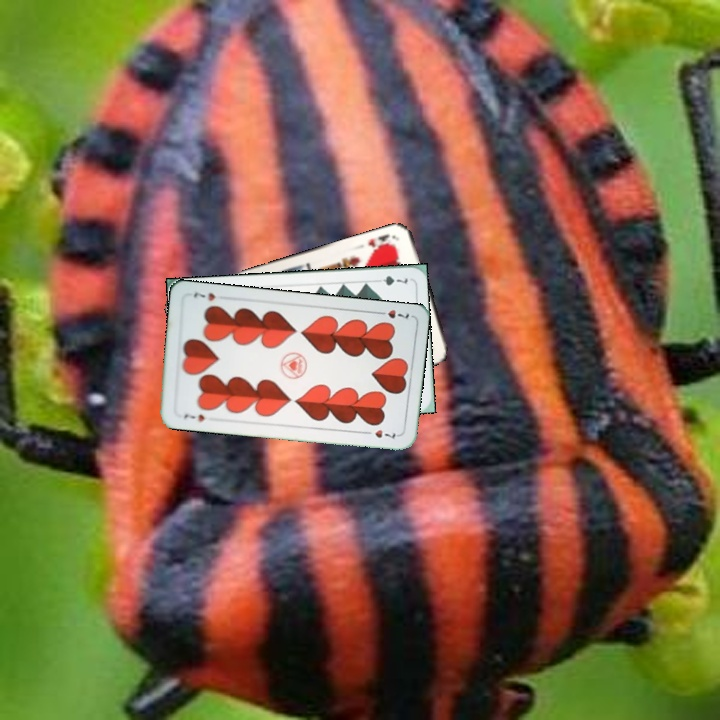G7: (370, 272, 410, 288)
H7: (372, 306, 412, 321), (180, 409, 207, 424)
HK: (364, 230, 399, 253)
